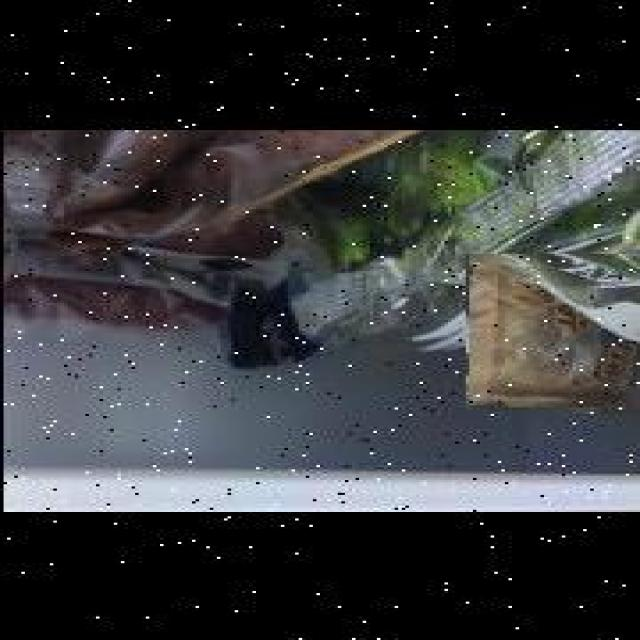bread: (466, 252, 640, 405)
